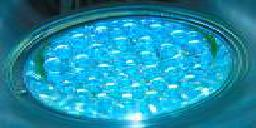LED: (22, 12, 231, 120)
